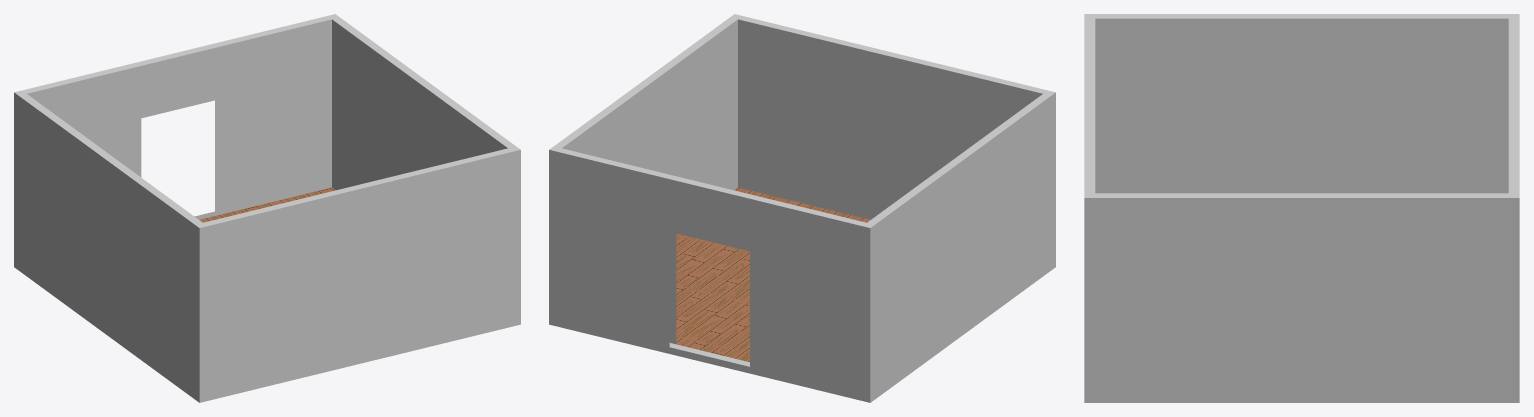
The model's file is house.glb.
The picture shows the model from 3 angles, left to right: view 1: azimuth 30°, elevation 25°; view 2: azimuth 150°, elevation 25°; view 3: azimuth 270°, elevation 25°; orthographic projection. The views are drawn at different scales.
Visible parts, largest first — view 1: Cube; view 2: Cube; view 3: Cube.
Boxes of the visible parts, bbox=[...] form: Cube: bbox=[14, 14, 520, 402]; Cube: bbox=[549, 14, 1055, 402]; Cube: bbox=[1084, 14, 1519, 402].
Bounding box in the file's own units: 20 × 10.4 × 20.
Materials: 2 (1 with a texture image).
